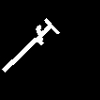double_crochet: (2, 18, 59, 71)
